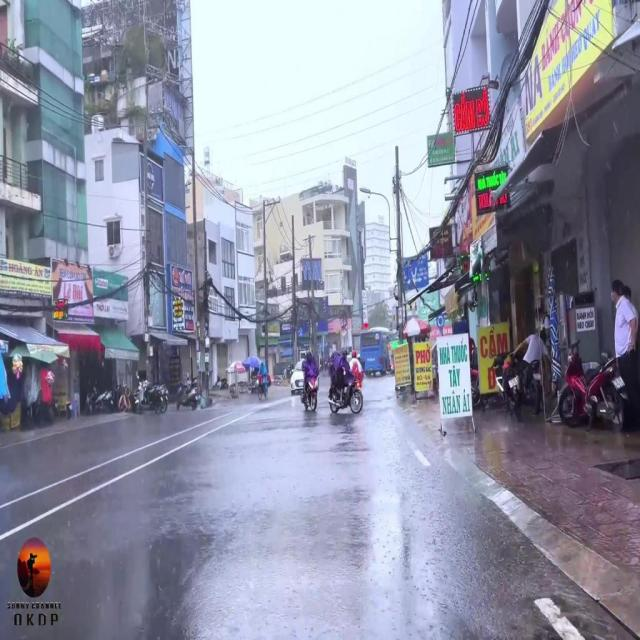khac: (403, 253, 429, 292)
noi_giao_nhau_chay_theo_vong: (436, 314, 445, 328)
